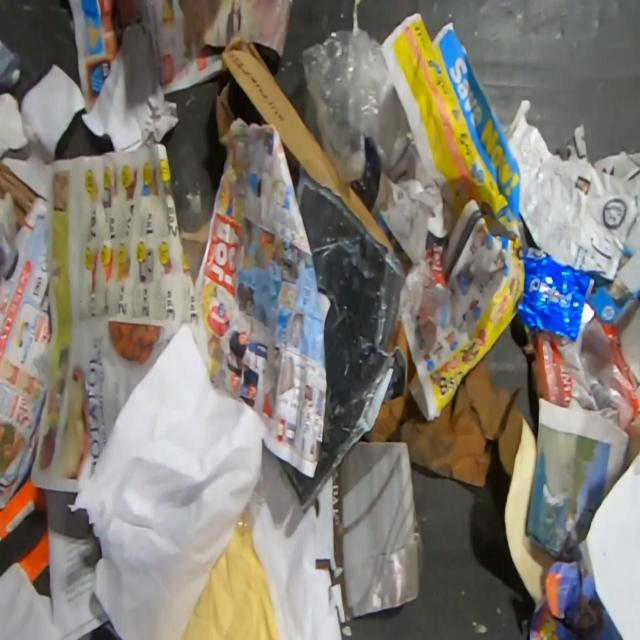cardboard: (213, 28, 394, 253), (358, 318, 524, 488), (0, 36, 25, 96)
metal: (517, 247, 595, 342)
rigid_plastic: (236, 474, 266, 534)
soft_plastic: (303, 28, 402, 182), (538, 316, 640, 437), (177, 190, 215, 287)
